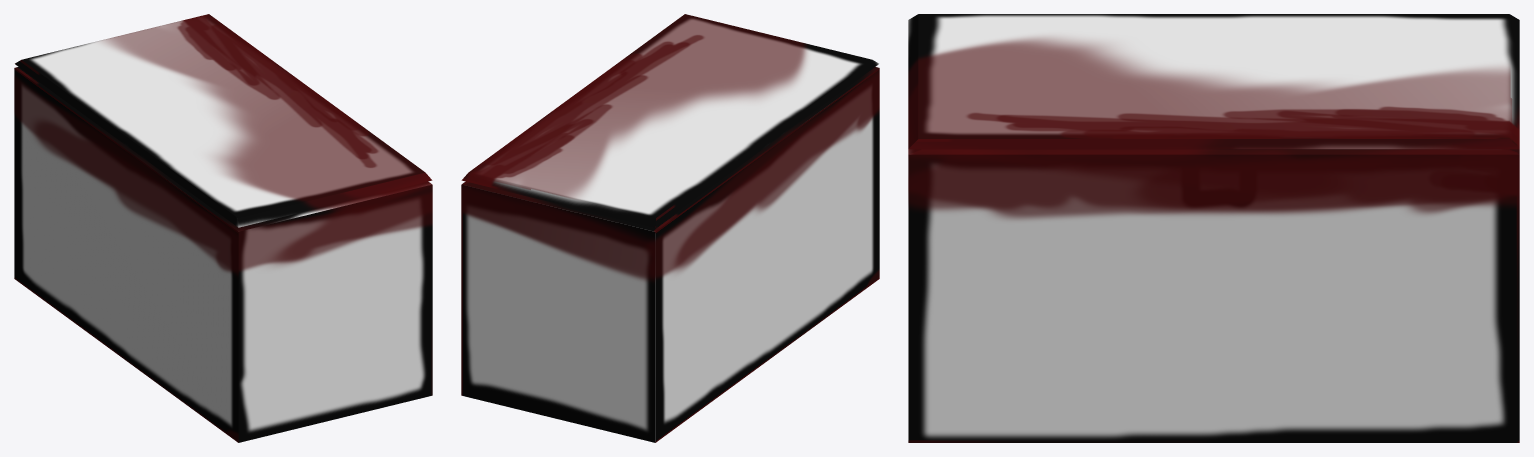
The model's file is freezer.fbx.
3 renders of one model, left to right at view 1: azimuth 30°, elevation 25°; view 2: azimuth 150°, elevation 25°; view 3: azimuth 270°, elevation 25°, orthographic. The views are drawn at different scales.
Parts seen in each view (by area): view 1: Cube; view 2: Cube; view 3: Cube.
Boxes of the visible parts, x1=… form: Cube: x1=14, y1=14, x2=432, y2=442; Cube: x1=461, y1=14, x2=879, y2=442; Cube: x1=908, y1=14, x2=1519, y2=442.
Bounding box in the file's own units: 200 × 218 × 400.
